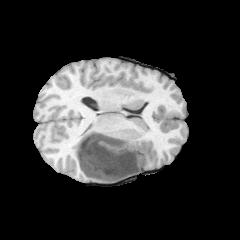glioma: (71, 127, 146, 183)
